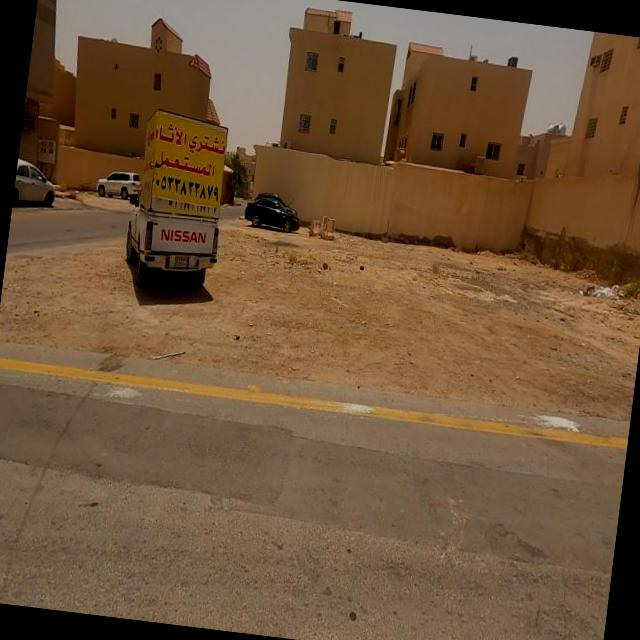debris: (555, 241, 640, 327)
